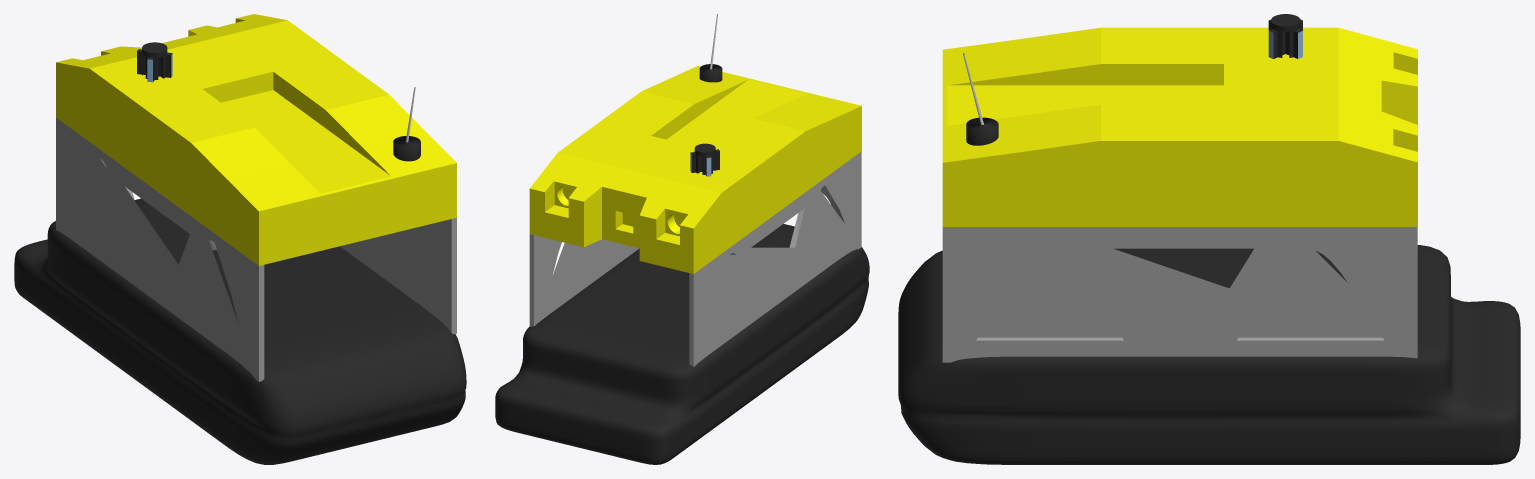
The model's file is ROV.fbx.
The picture shows the model from 3 angles, left to right: view 1: azimuth 30°, elevation 25°; view 2: azimuth 150°, elevation 25°; view 3: azimuth 270°, elevation 25°; orthographic projection. The views are drawn at different scales.
Visible parts, largest first — view 1: Vallve; view 2: Vallve; view 3: Vallve.
Boxes of the visible parts, <box> form: Vallve: <box>14,14,466,464</box>; Vallve: <box>495,14,869,464</box>; Vallve: <box>898,14,1520,464</box>.
Size of the model in its own units: 355 by 546 by 779.
